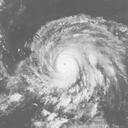cyclone: (25, 13, 127, 115)
